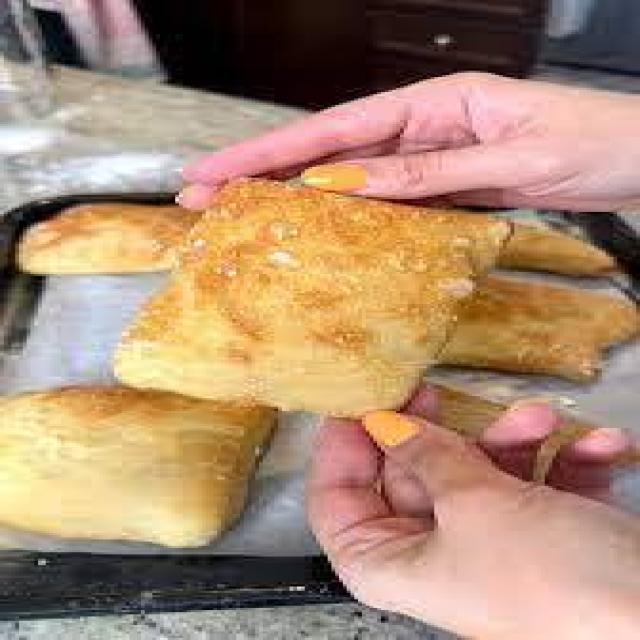Ciabatta: (114, 180, 507, 415), (0, 383, 274, 546), (438, 274, 636, 379), (15, 203, 194, 274), (495, 223, 613, 274)
